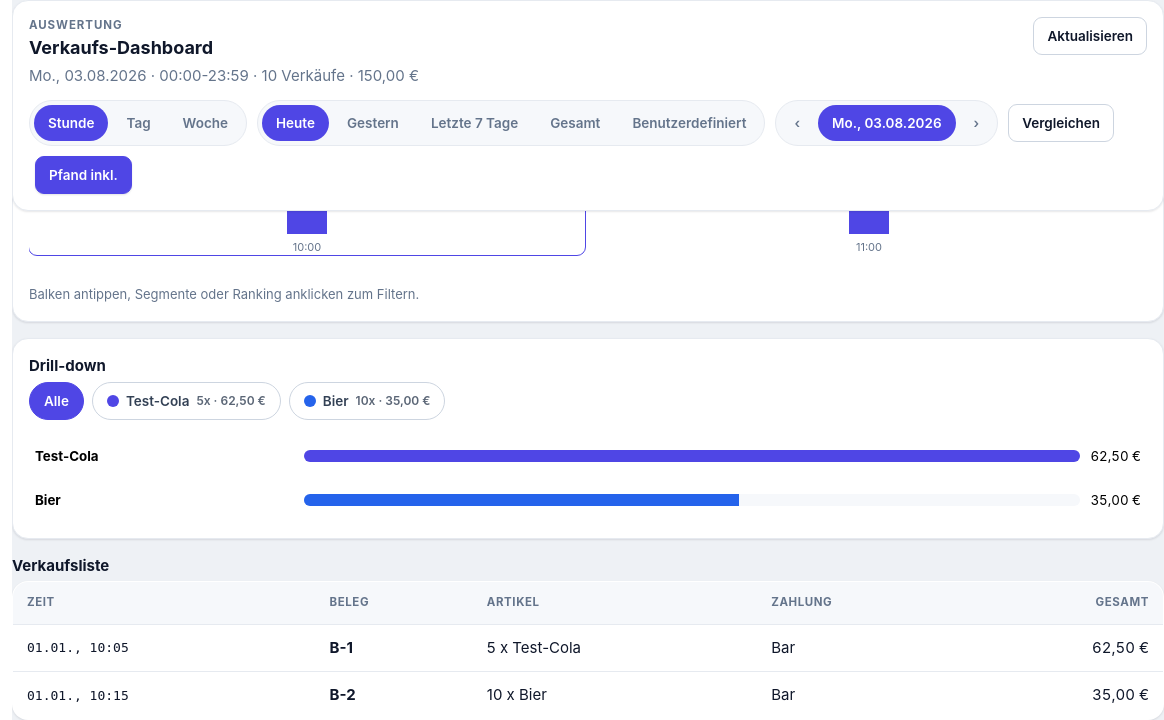
Auswertung Component › should filter the sales list when a top article is clicked
The image size is (1164, 720).
(page scrolled)
Expected: the text "B-1" is shown, top-left (330, 638), bottom-right (353, 656)
Expected: the text "B-2" is shown, top-left (330, 685), bottom-right (356, 704)
What coordinates should you click on to do the following:
click the button "Test-Cola 5x · 62,50 €"
I would click on:
 (186, 401)
Its box is top-left (92, 382), bottom-right (281, 420).
(page scrolled)
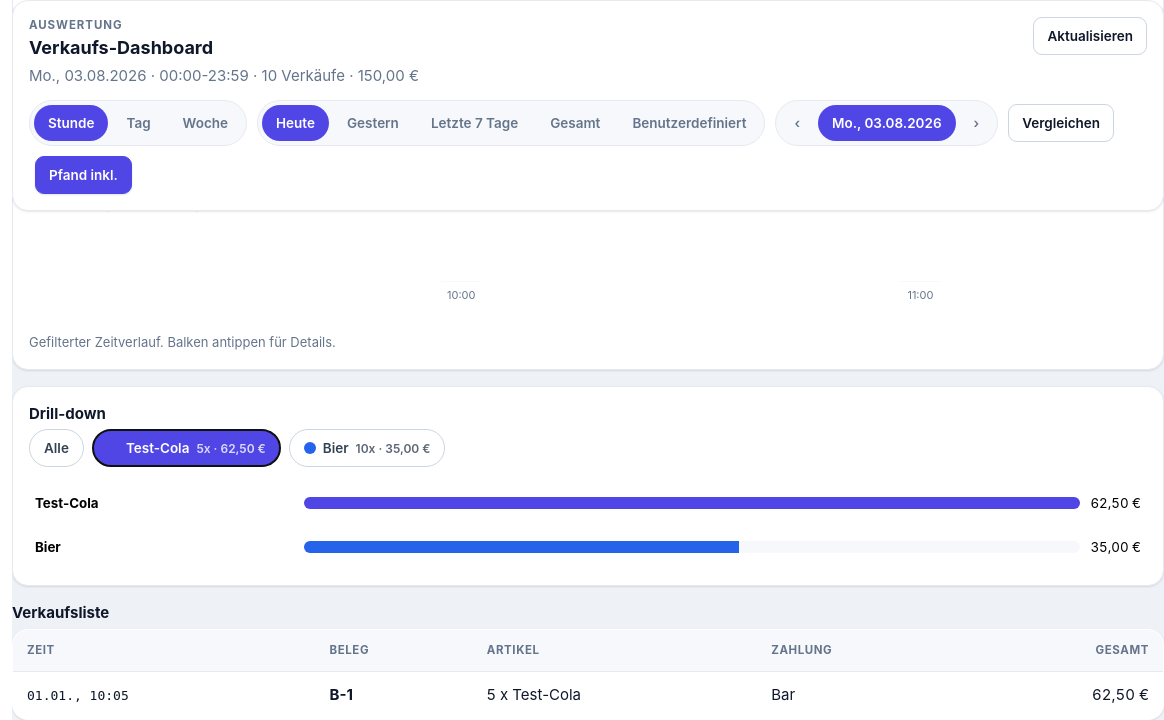
Expected: the text "B-1" is shown, top-left (330, 685), bottom-right (353, 704)
Now the text "B-2" is gone
